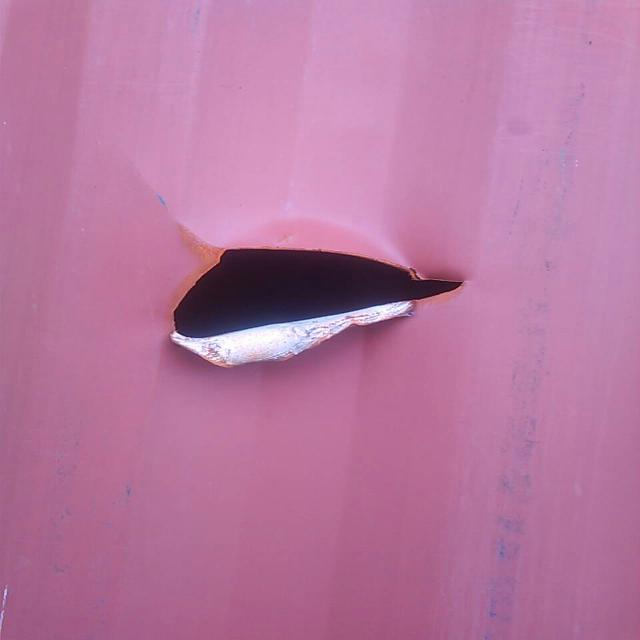hole: (141, 224, 483, 380)
